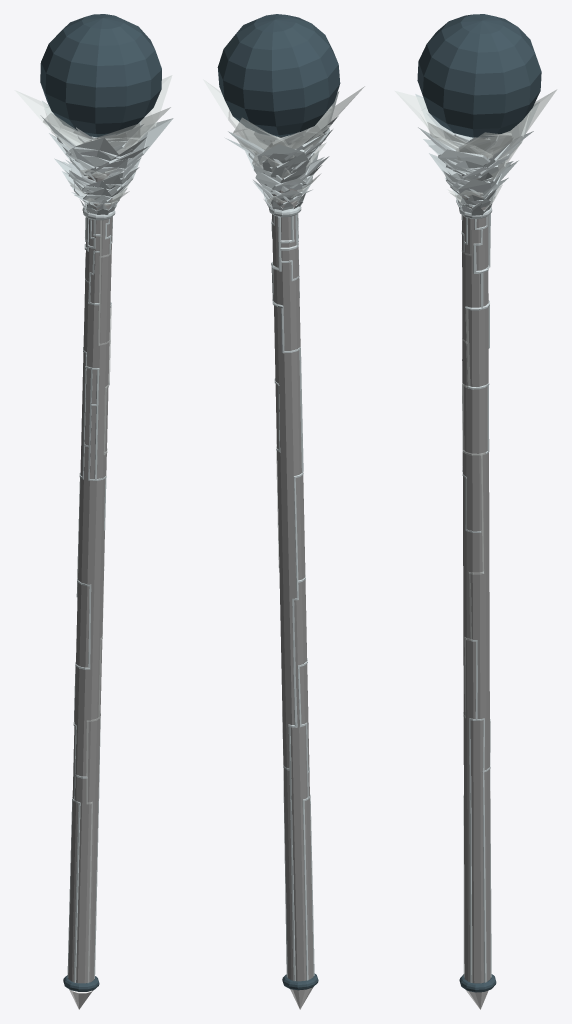
Rendered from Staff.obj.
3 views of the same model, side by side, from view 1: azimuth 30°, elevation 25°; view 2: azimuth 150°, elevation 25°; view 3: azimuth 270°, elevation 25° (orthographic).
Visible parts, largest first — view 1: group1207056657, group270387079, group184693700, group1179226317, group1036379625, group792195849, group603480197, group1107967162, group1288068607, group455212008, group73094491, group1073587856; view 2: group1207056657, group270387079, group184693700, group1179226317, group1036379625, group792195849, group1288068607, group806795537, group605649876, group1070661014; view 3: group1207056657, group270387079, group184693700, group1179226317, group792195849, group455212008, group1036379625, group2109422616, group510916095, group1288068607, group1070661014.
Part boxes in pixels (x1,y1,x2,y2): group1207056657: (68, 173, 112, 983); group270387079: (40, 14, 161, 137); group184693700: (14, 75, 172, 163); group1179226317: (40, 101, 173, 173); group1036379625: (49, 133, 128, 180); group792195849: (54, 156, 141, 199); group603480197: (62, 171, 129, 208); group1107967162: (73, 802, 80, 982); group1288068607: (54, 139, 148, 176); group455212008: (68, 120, 143, 151); group73094491: (87, 802, 92, 982); group1073587856: (63, 161, 136, 199); group1207056657: (272, 177, 313, 981); group270387079: (217, 14, 340, 136); group184693700: (203, 79, 364, 158); group1179226317: (228, 91, 339, 164); group1036379625: (231, 129, 332, 178); group792195849: (245, 151, 329, 191); group1288068607: (224, 137, 325, 173); group806795537: (302, 800, 308, 980); group605649876: (290, 799, 295, 981); group1070661014: (252, 157, 324, 183); group1207056657: (462, 153, 490, 983); group270387079: (417, 14, 541, 137); group184693700: (395, 89, 556, 161); group1179226317: (415, 94, 539, 167); group792195849: (429, 153, 518, 197); group455212008: (426, 113, 502, 153); group1036379625: (423, 139, 523, 180); group2109422616: (469, 800, 472, 982); group510916095: (483, 800, 486, 982); group1288068607: (428, 145, 509, 178); group1070661014: (432, 156, 513, 189).
Bounding box in the file's own units: 0.4916 × 3.25 × 0.4813.
